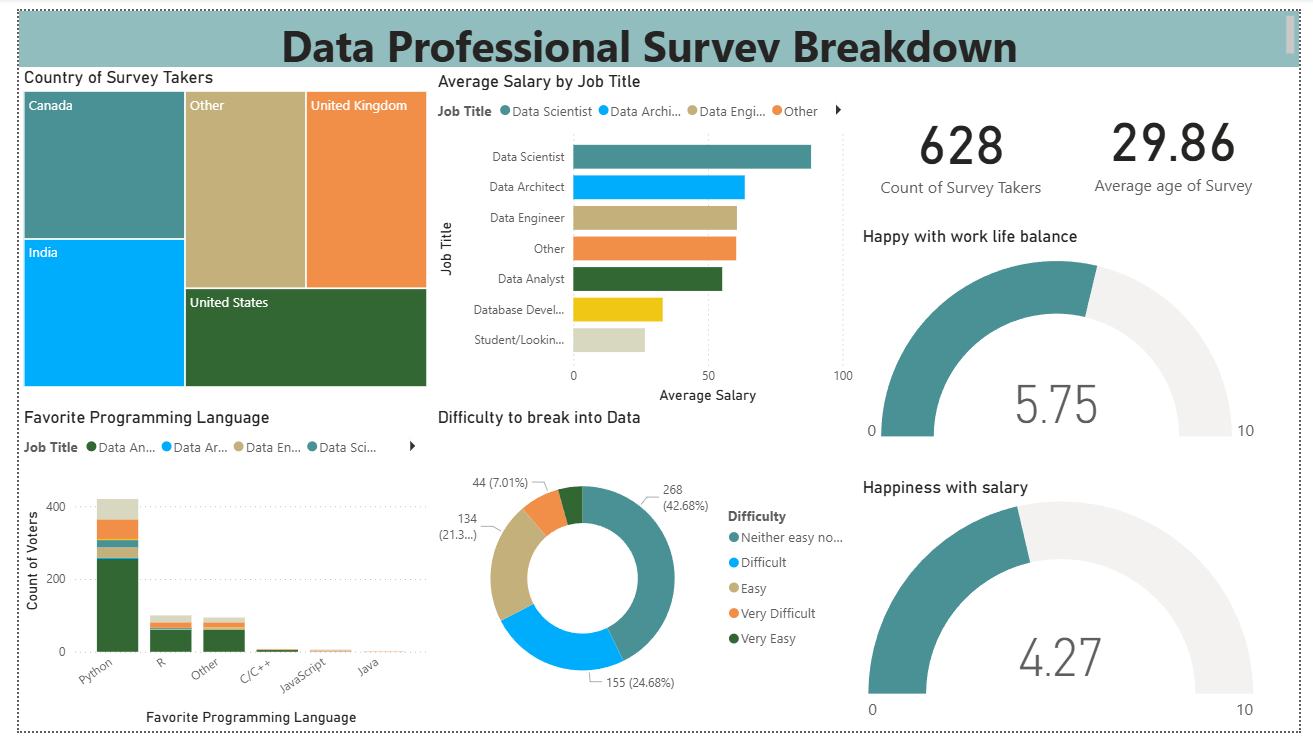

The page's visual inventory and layout, read from the dashboard file:
{"tool":"powerbi","page":{"name":"Page 1","canvas":[1280,720],"ordinal":0},"visuals":[{"type":"textbox","box":[0,0,1280.3,56.3],"z":0},{"type":"card","fields":{"Values":["Count(Data Professional Survey.Unique ID)"]},"box":[838.3,60,206.7,155],"z":1},{"type":"card","fields":{"Values":["Avg(Data Professional Survey.Q10 - Current Age)"]},"box":[1028.3,56.7,251.7,158.3],"z":2},{"type":"barChart","title":"Average Salary by Job Title","fields":{"Category":["Data Professional Survey.Q1 - Which Title Best Fits your Current Role?.1"],"Y":["Avg(Data Professional Survey.Average Salary)"],"Series":["Data Professional Survey.Q1 - Which Title Best Fits your Current Role?.1"]},"box":[413.3,60,425,336.7],"z":3},{"type":"columnChart","title":"Favorite Programming Language","fields":{"Category":["Data Professional Survey.Q5 - Favorite Programming Language.1"],"Y":["CountNonNull(Data Professional Survey.Unique ID)"],"Series":["Data Professional Survey.Q1 - Which Title Best Fits your Current Role?.1"]},"box":[0,396.7,413.3,323.3],"z":4},{"type":"treemap","title":"Country of Survey Takers","fields":{"Group":["Data Professional Survey.Q11 - Which Country do you live in?.1"],"Values":["Count(Data Professional Survey.Q11 - Which Country do you live in?.1)"]},"box":[0,56.7,413.3,325],"z":5},{"type":"gauge","title":"Happy with work life balance","fields":{"Y":["Avg(Data Professional Survey.Q6 - How Happy are you in your Current Position with the following? (Work/Life Balance))"],"MinValue":["Min(Data Professional Survey.Q6 - How Happy are you in your Current Position with the following? (Work/Life Balance))1"],"MaxValue":["Max(Data Professional Survey.Q6 - How Happy are you in your Current Position with the following? (Work/Life Balance))2"]},"box":[838.3,215,406.7,231.7],"z":6},{"type":"gauge","title":"Happiness with salary","fields":{"Y":["Avg(Data Professional Survey.Q6 - How Happy are you in your Current Position with the following? (Salary))"],"MinValue":["Min(Data Professional Survey.Q6 - How Happy are you in your Current Position with the following? (Salary))"],"MaxValue":["Max(Data Professional Survey.Q6 - How Happy are you in your Current Position with the following? (Salary))1"]},"box":[838.3,466.7,406.7,253.3],"z":7},{"type":"donutChart","title":"Difficulty to break into Data","fields":{"Category":["Data Professional Survey.Q7 - How difficult was it for you to break into Data?"],"Y":["CountNonNull(Data Professional Survey.Q7 - How difficult was it for you to break into Data?)"]},"box":[413.3,396.7,425,323.3],"z":8}]}

Visuals, with their boxes in screenshot pixels (x1, y1, x2, y2), scaled from the page's 1280x720 canvas onto the 1313x740 screenshot:
textbox: region(0, 0, 1312, 58)
card - Count(Data Professional Survey.Unique ID): region(860, 62, 1072, 221)
card - Avg(Data Professional Survey.Q10 - Current Age): region(1055, 58, 1312, 221)
"Average Salary by Job Title" barChart: region(424, 62, 860, 408)
"Favorite Programming Language" columnChart: region(0, 408, 424, 739)
"Country of Survey Takers" treemap: region(0, 58, 424, 392)
"Happy with work life balance" gauge: region(860, 221, 1277, 459)
"Happiness with salary" gauge: region(860, 480, 1277, 739)
"Difficulty to break into Data" donutChart: region(424, 408, 860, 739)
